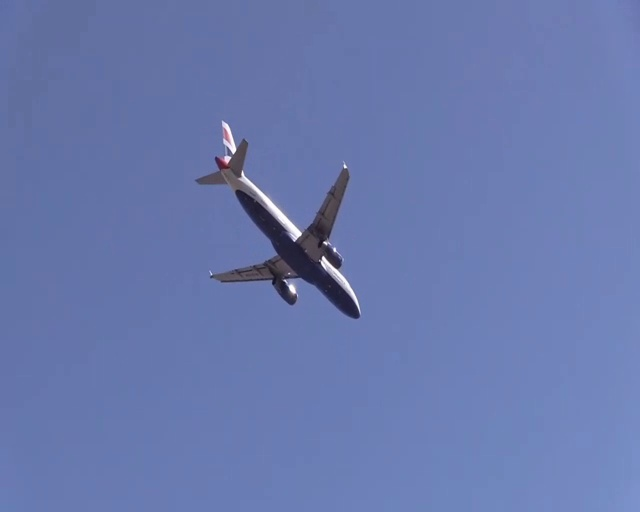AIRPLANE: (195, 118, 359, 316)
